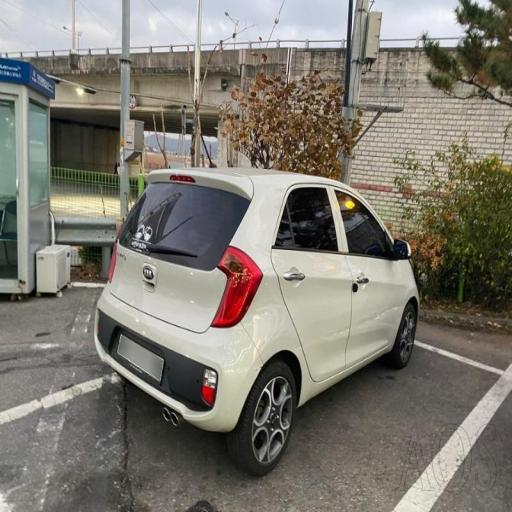dent: (336, 260, 415, 370)
scratch: (222, 281, 282, 430)
